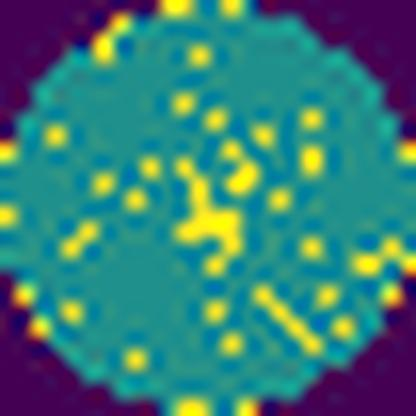Center: (172, 130, 265, 273)
